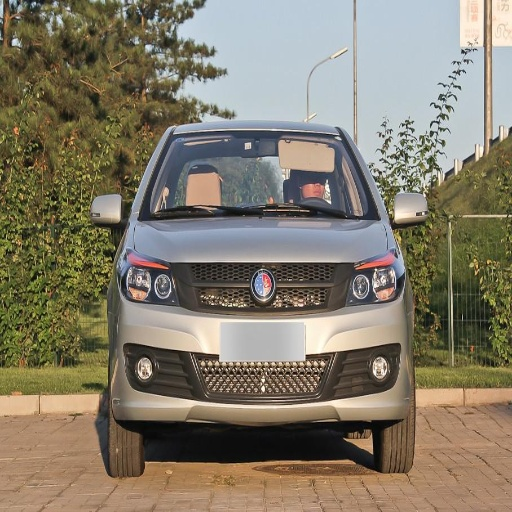front_bumper: (118, 263, 405, 426)
front_right_light: (118, 255, 177, 305)
hood: (129, 215, 395, 266)
left_mirror: (391, 191, 428, 228)
